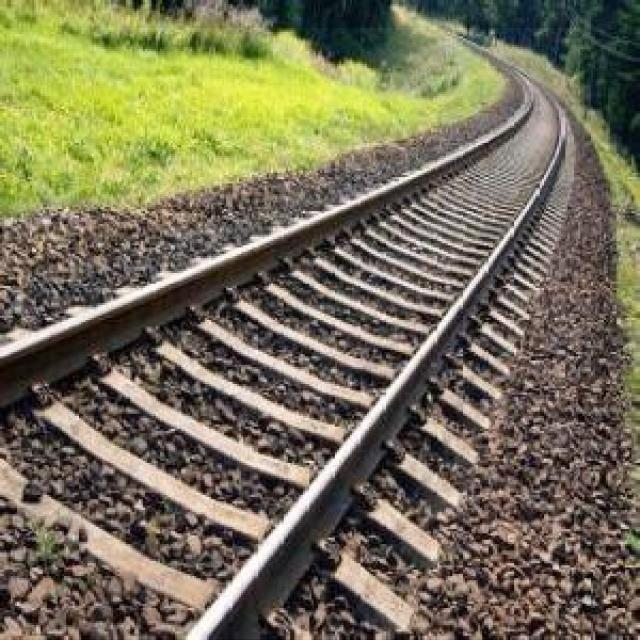rail: (1, 29, 581, 640)
